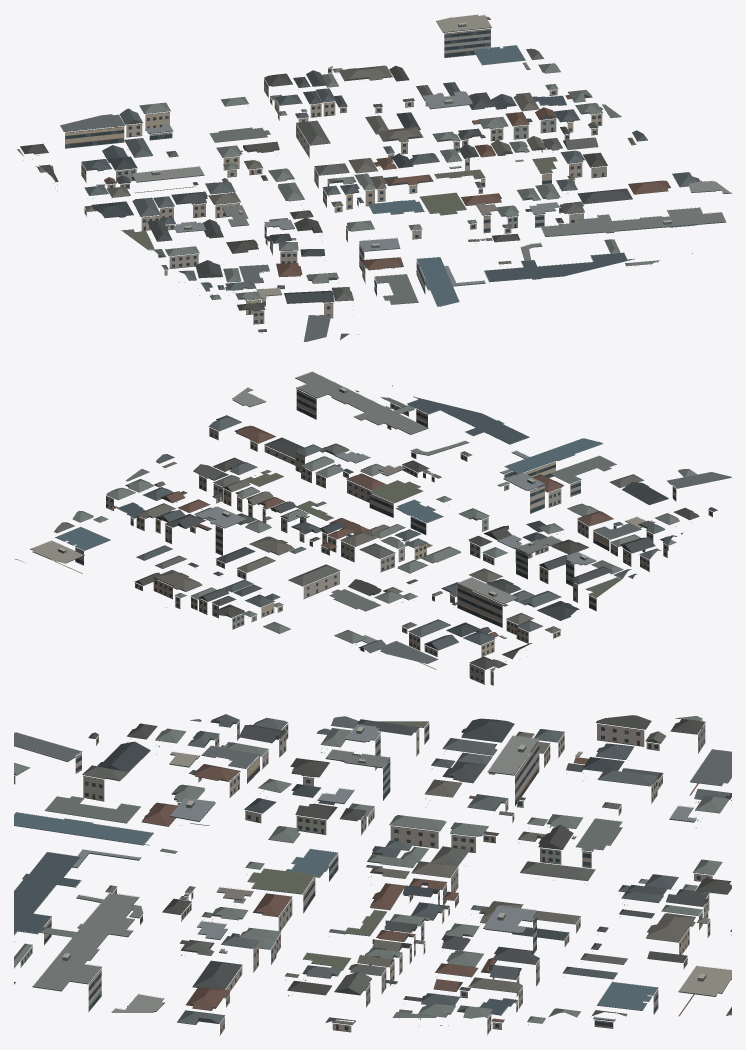
The picture shows the model from 3 angles, top to bottom: view 1: azimuth 30°, elevation 25°; view 2: azimuth 150°, elevation 25°; view 3: azimuth 270°, elevation 25°; orthographic projection. The views are drawn at different scales.
Parts seen in each view (by area): view 1: r2-c6; view 2: r2-c6; view 3: r2-c6.
Boxes of the visible parts, x1=… form: r2-c6: x1=17, y1=14, x2=731, y2=341; r2-c6: x1=15, y1=371, x2=731, y2=685; r2-c6: x1=14, y1=714, x2=731, y2=1035.
Bounding box in the file's own units: 250 × 17.59 × 250.
